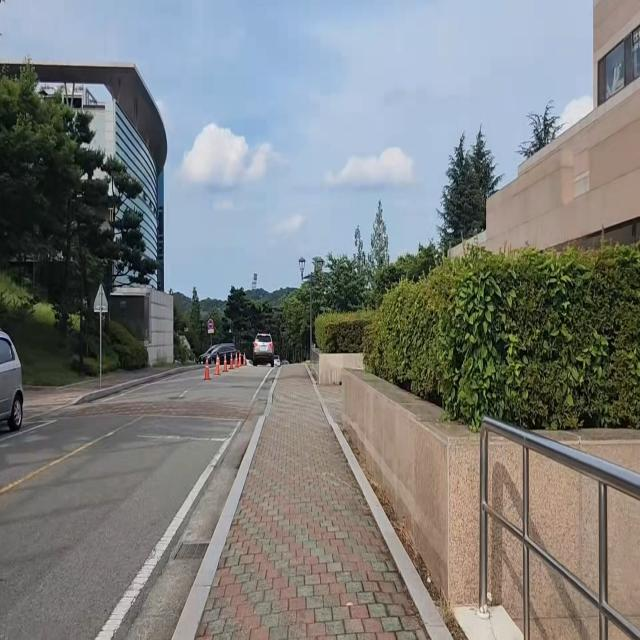obstacle: (0, 324, 27, 436), (247, 321, 276, 370)
road: (0, 369, 277, 640)
sidewalk: (182, 360, 456, 640)
